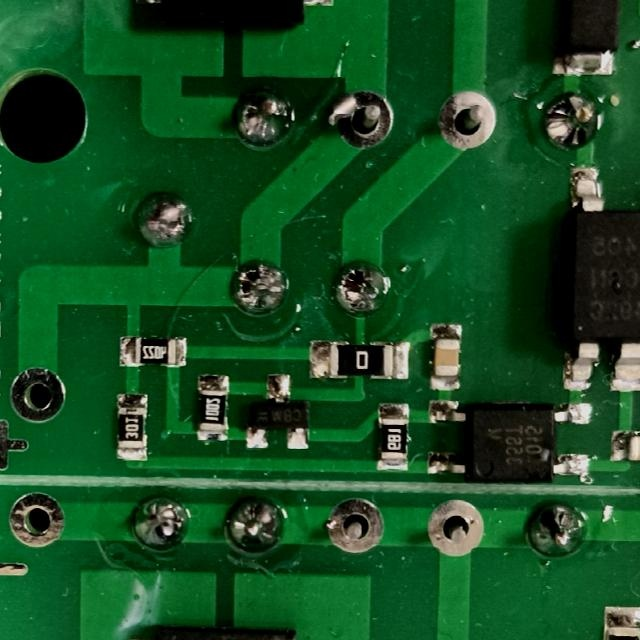chip-capacitor: (430, 320, 466, 392)
chip-resistor: (306, 340, 414, 380), (194, 370, 231, 445), (113, 390, 151, 462), (373, 401, 412, 471), (116, 332, 190, 368)
diode: (551, 0, 621, 79)
ic: (424, 400, 600, 485)
transistor: (243, 372, 316, 452)
